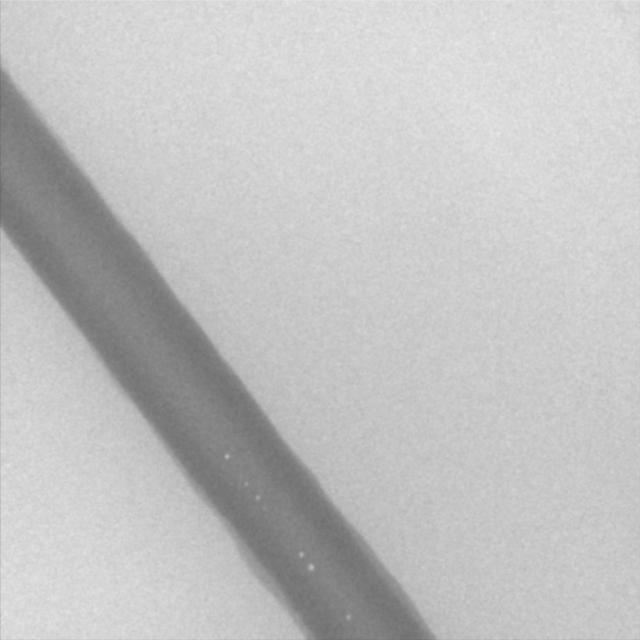air hole: (307, 562, 315, 574), (344, 611, 352, 622), (297, 549, 305, 560), (254, 493, 262, 503), (223, 451, 231, 460)
